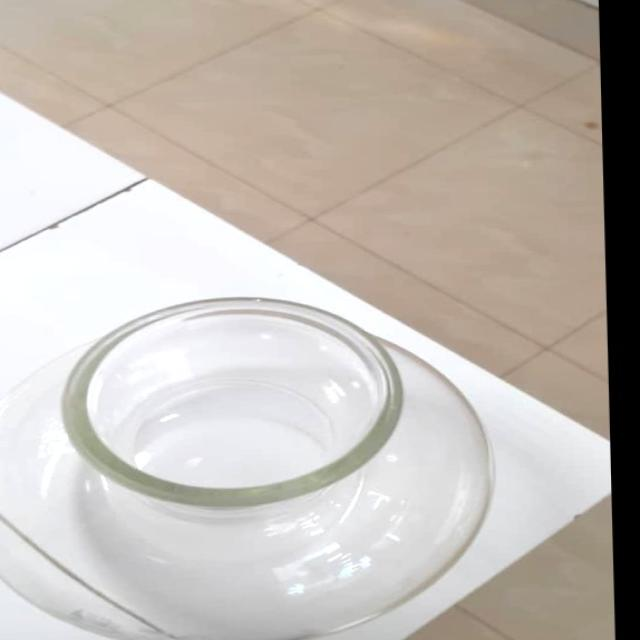Round Bottom Flask: (0, 276, 512, 640)
